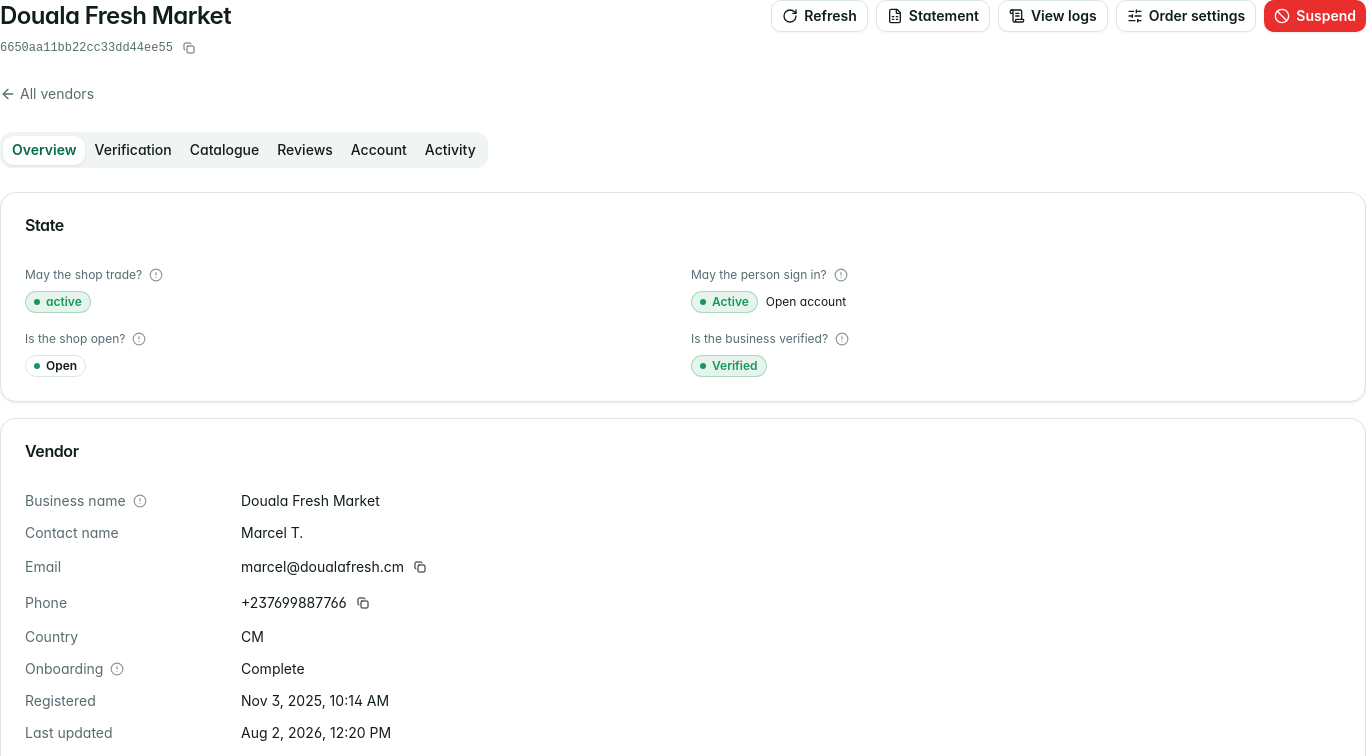
Test case: the cascade › reports the count the response carries, and says why fewer come back
Click the button "Suspend": (1315, 16) [1264,0,1365,32]
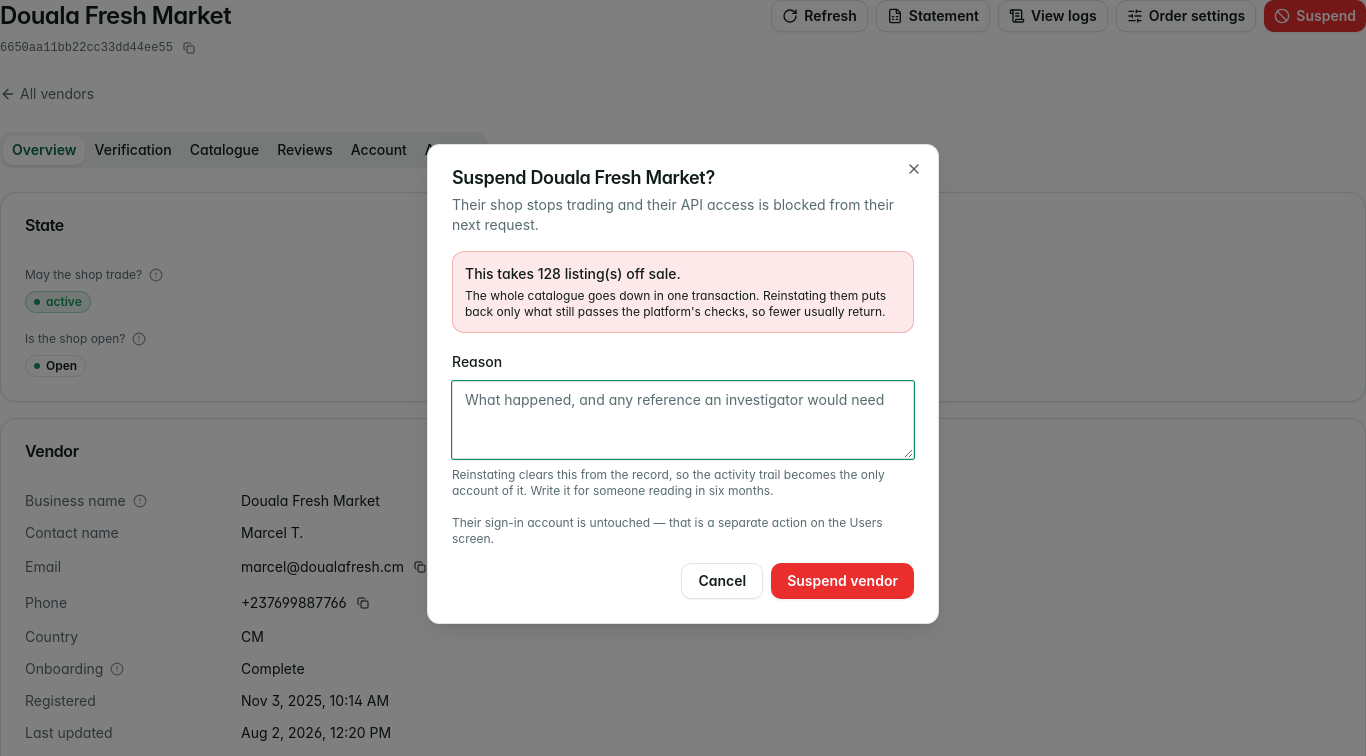
In the text box labelled "Reason": (683, 420) [452,381,914,459], type "Mislabelled weights across the produce catalogue"
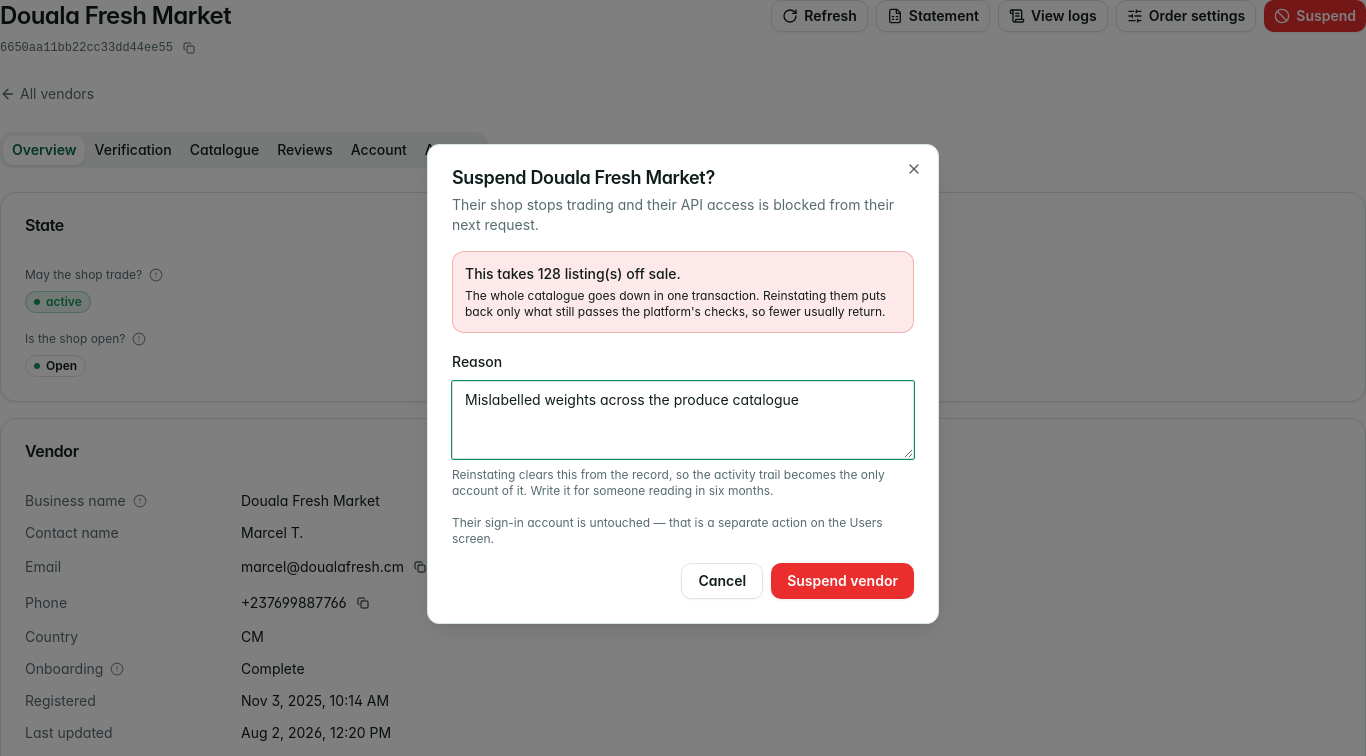
Click the button "Suspend vendor": (843, 581) [771,563,914,599]
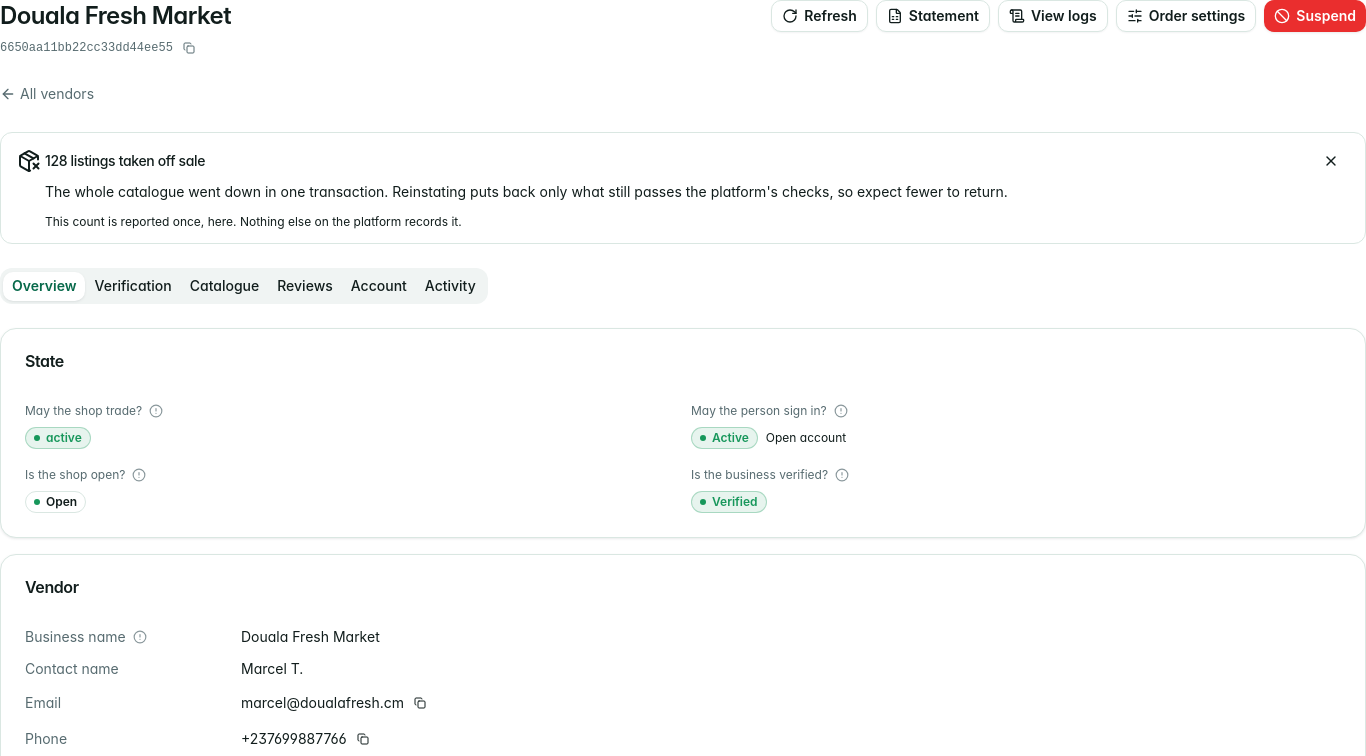
Result: the heading "128 listings taken off sale" is shown at [17,145,1349,177]
Result: the text "expect fewer to return" is shown at [45,183,1008,200]
